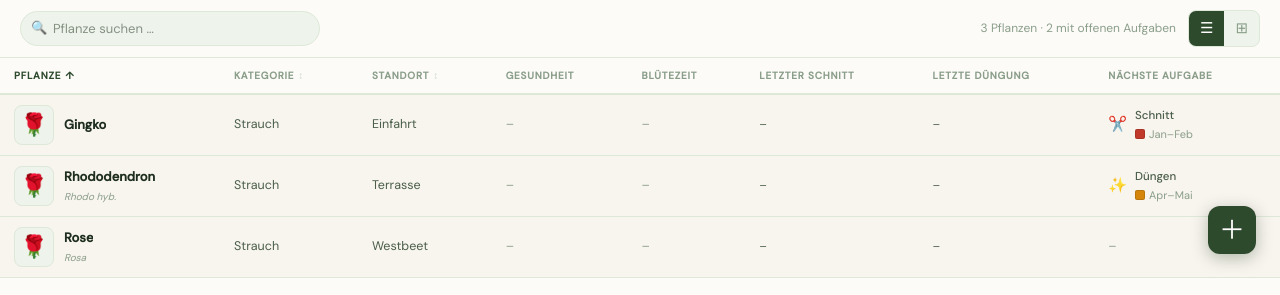
PlantsView — search (AC #2) › filters by common name
expect the number of rows with test id "plant-row" is 3: met, box [0,94,1279,155]; [0,155,1279,216]; [0,216,1279,277]
Type "Rose" into the field with test id "plants-search" at (170, 28), box [20,10,320,46]
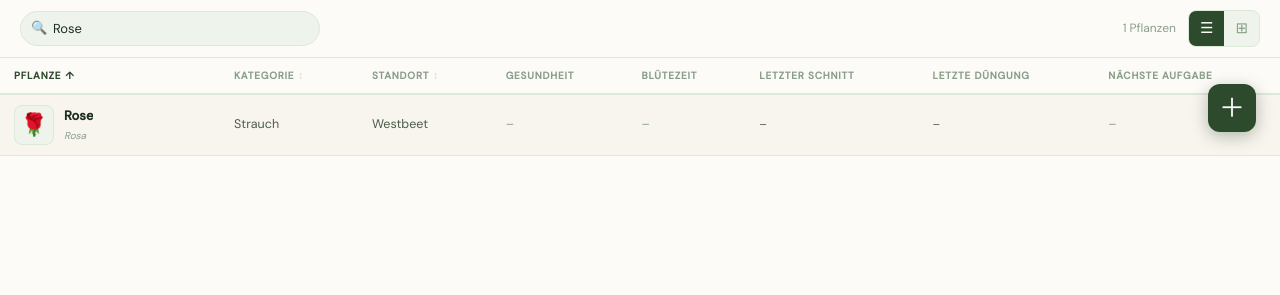
expect the text "Rose" is shown: met, box [64,106,94,126]
expect the number of rows with test id "plant-row" is 1: met, box [0,94,1279,155]
